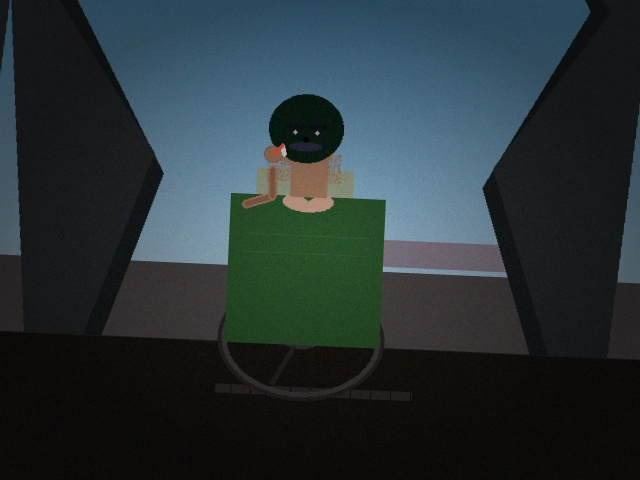smoking: (259, 141, 290, 171)
